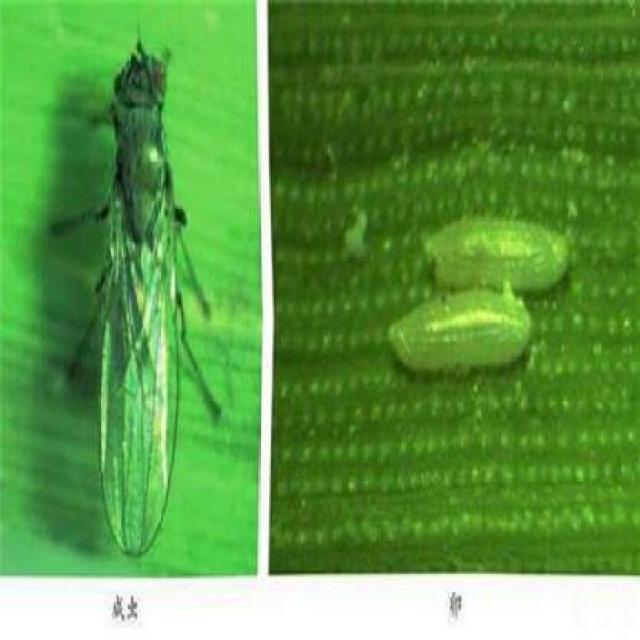whorl-maggot: (386, 292, 542, 386), (415, 221, 577, 297)
